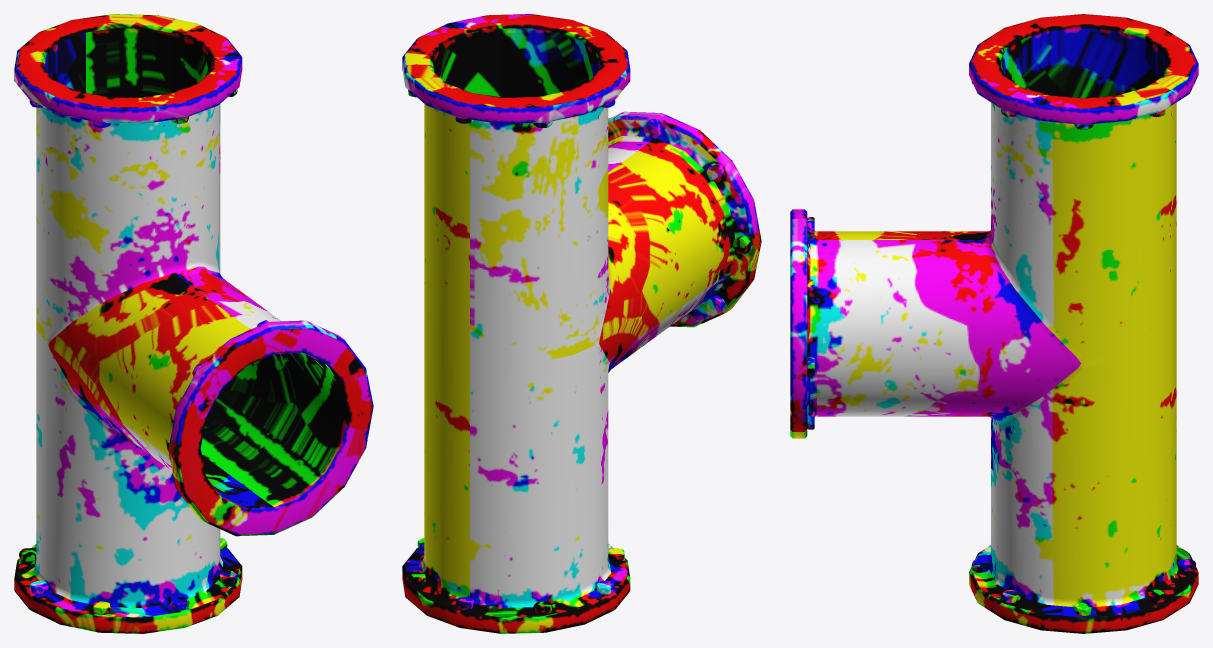
Rendered from sm_PipeTee_01_01.fbx.
3 renders of one model, left to right at view 1: azimuth 30°, elevation 25°; view 2: azimuth 150°, elevation 25°; view 3: azimuth 270°, elevation 25°, orthographic.
Parts seen in each view (by area): view 1: sm_PipeTee_01_01_LOD0; view 2: sm_PipeTee_01_01_LOD0; view 3: sm_PipeTee_01_01_LOD0.
Boxes of the visible parts, bbox=[...] form: sm_PipeTee_01_01_LOD0: bbox=[14, 14, 373, 633]; sm_PipeTee_01_01_LOD0: bbox=[402, 14, 761, 633]; sm_PipeTee_01_01_LOD0: bbox=[790, 14, 1198, 633].
Bounding box in the file's own units: 29.76 × 52.88 × 75.
